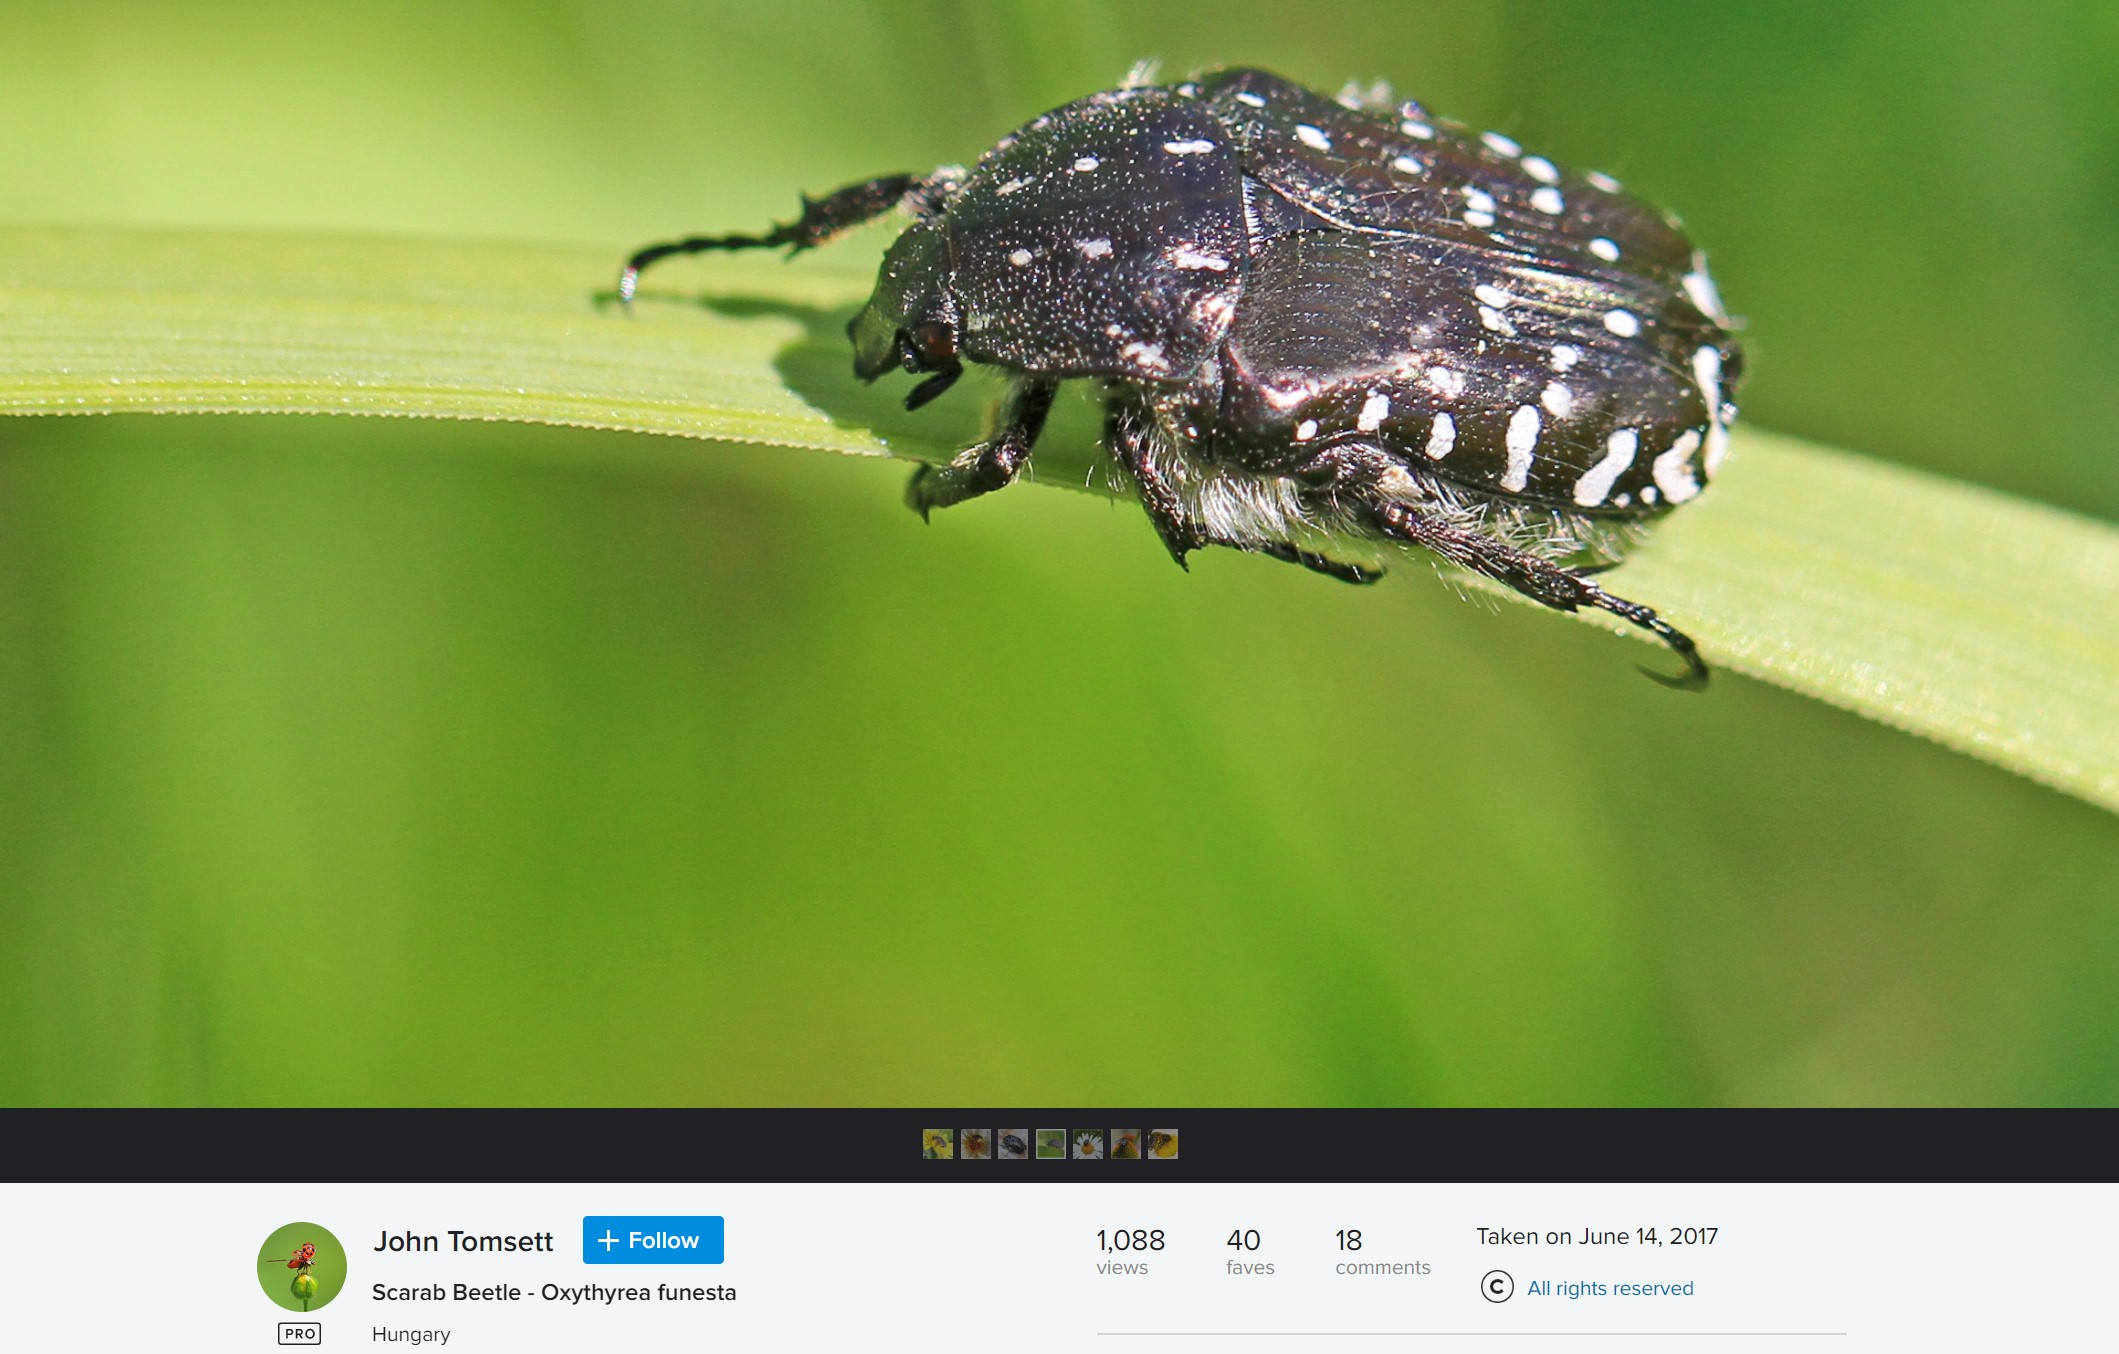Oxythyrea_funesta: (556, 28, 1838, 698)
